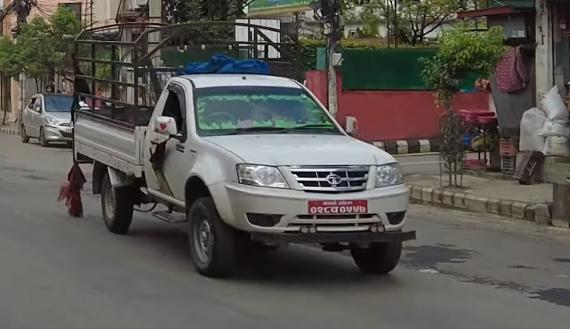car: (14, 89, 86, 153)
transport_vehicle: (70, 15, 414, 290)
